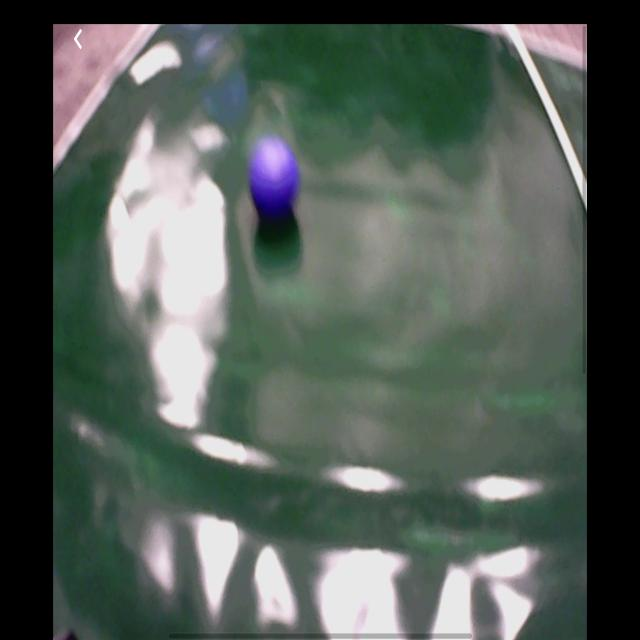ball: (248, 137, 302, 217)
